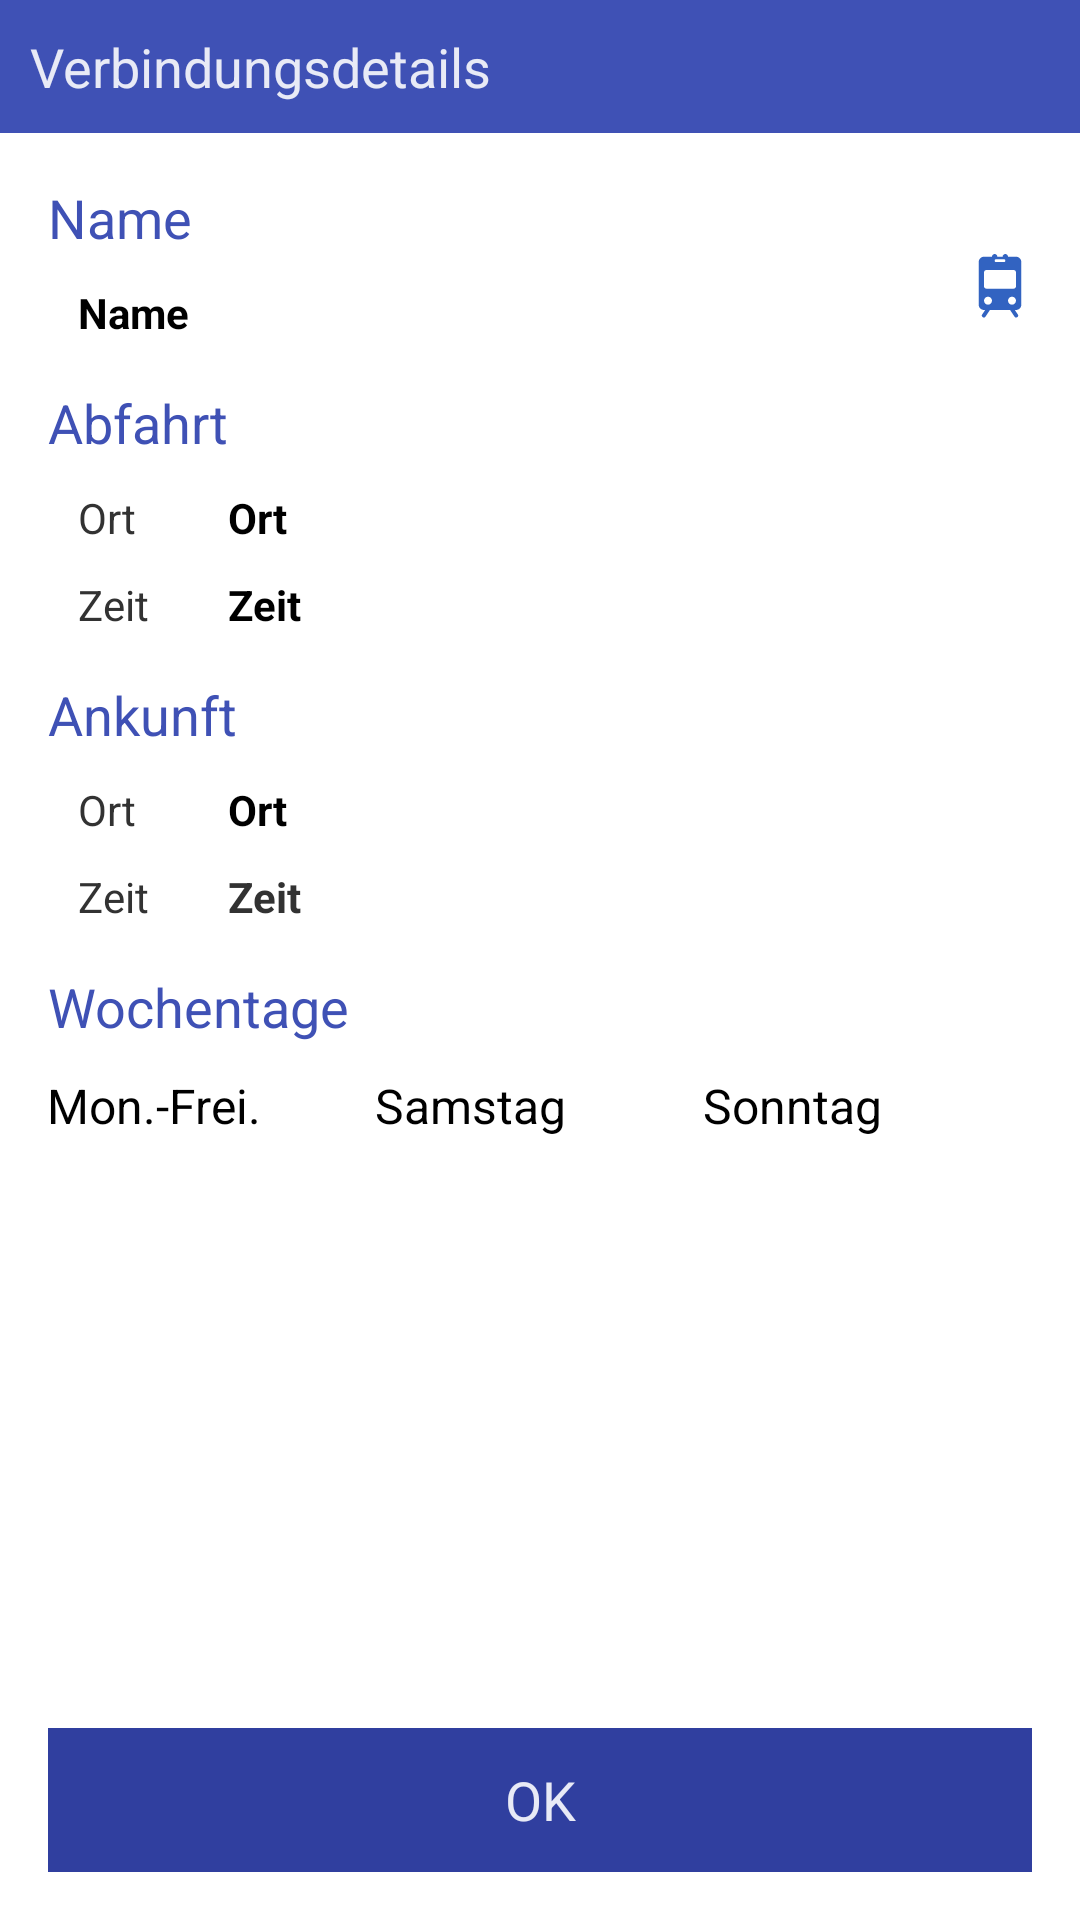

Named icons in this screenshot (1080×1920) and their bounding boxes, {"x1": x1, "y1": y1, "x2": x2, "y2": y2}:
Art der Verbindung: {"x1": 978, "y1": 254, "x2": 1022, "y2": 318}
